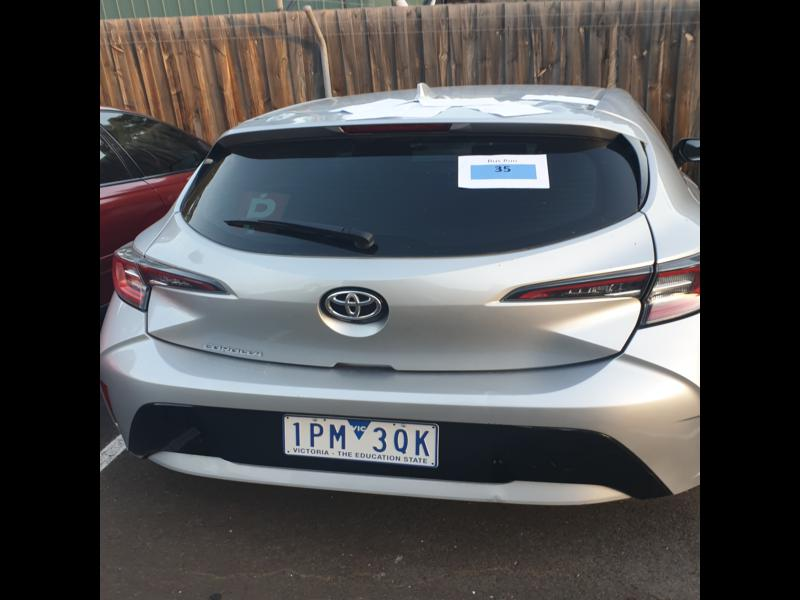BusRun: (468, 163, 537, 180)
PlateNo: (283, 414, 440, 467)
